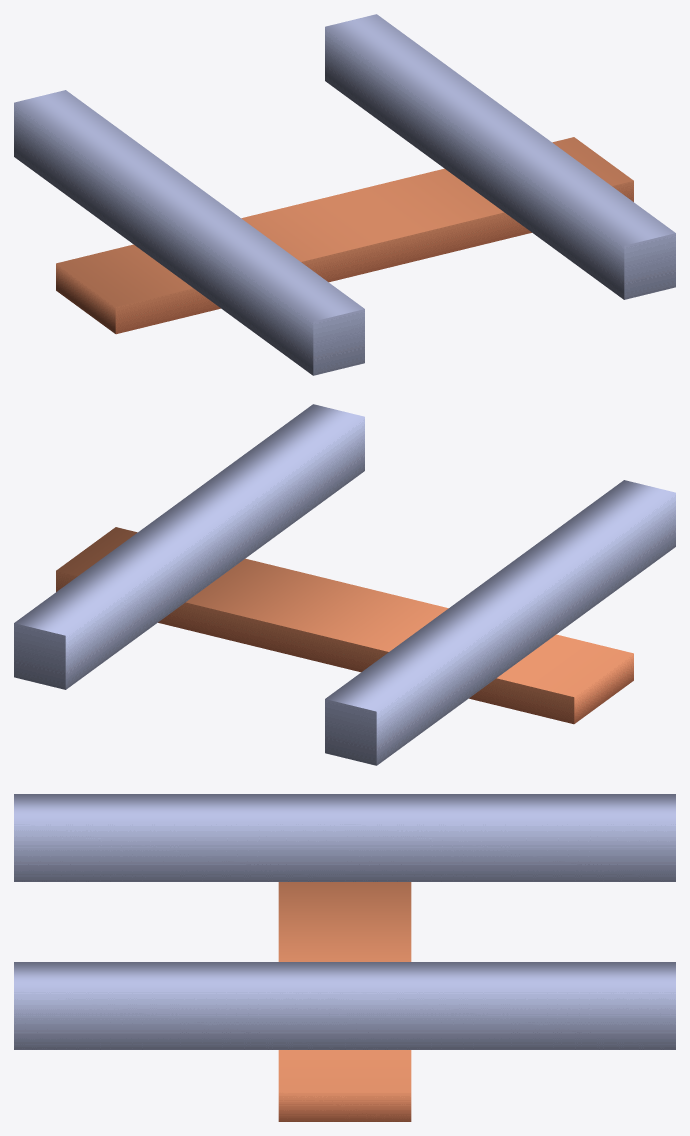
The model's file is track-single.glb.
3 renders of one model, top to bottom at view 1: azimuth 30°, elevation 25°; view 2: azimuth 150°, elevation 25°; view 3: azimuth 270°, elevation 25°, orthographic. The views are drawn at different scales.
Visible parts, largest first — view 1: track-single; view 2: track-single; view 3: track-single.
Part boxes in pixels (bbox=[...]): track-single: bbox=[14, 14, 675, 375]; track-single: bbox=[14, 404, 675, 765]; track-single: bbox=[14, 794, 675, 1121].
Bounding box in the file's own units: 1 × 0.15 × 1.
1 material, 1 textured.
